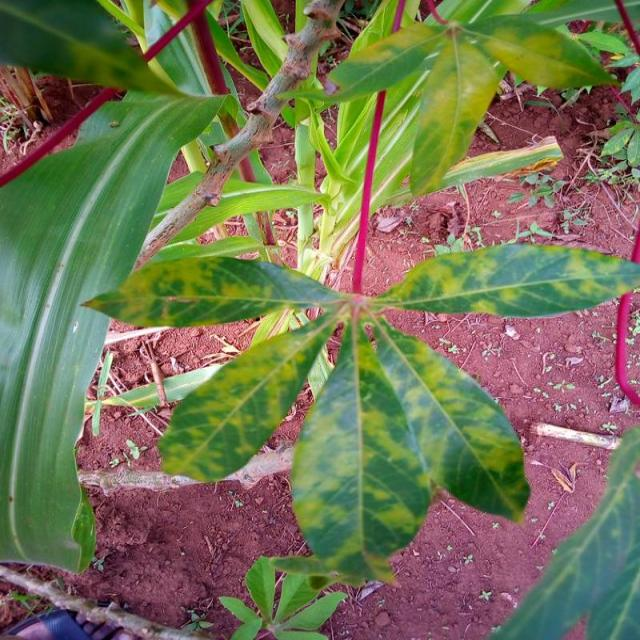cassava leaf: (0, 84, 231, 574), (289, 314, 432, 586), (156, 311, 336, 482), (373, 241, 638, 319)
